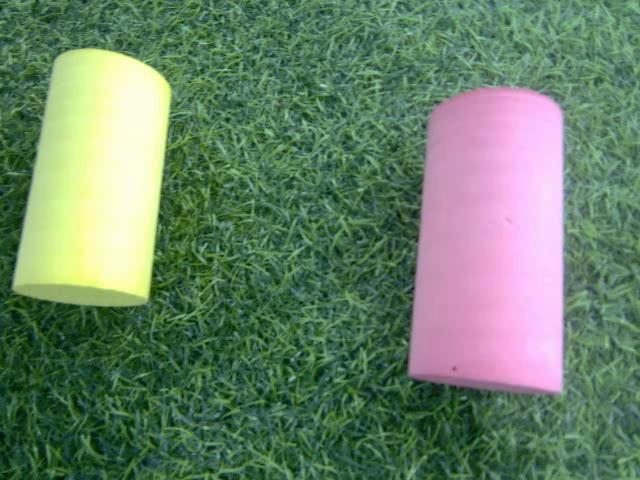red_cylinder: (389, 78, 576, 397)
yellow_cylinder: (5, 44, 177, 311)
